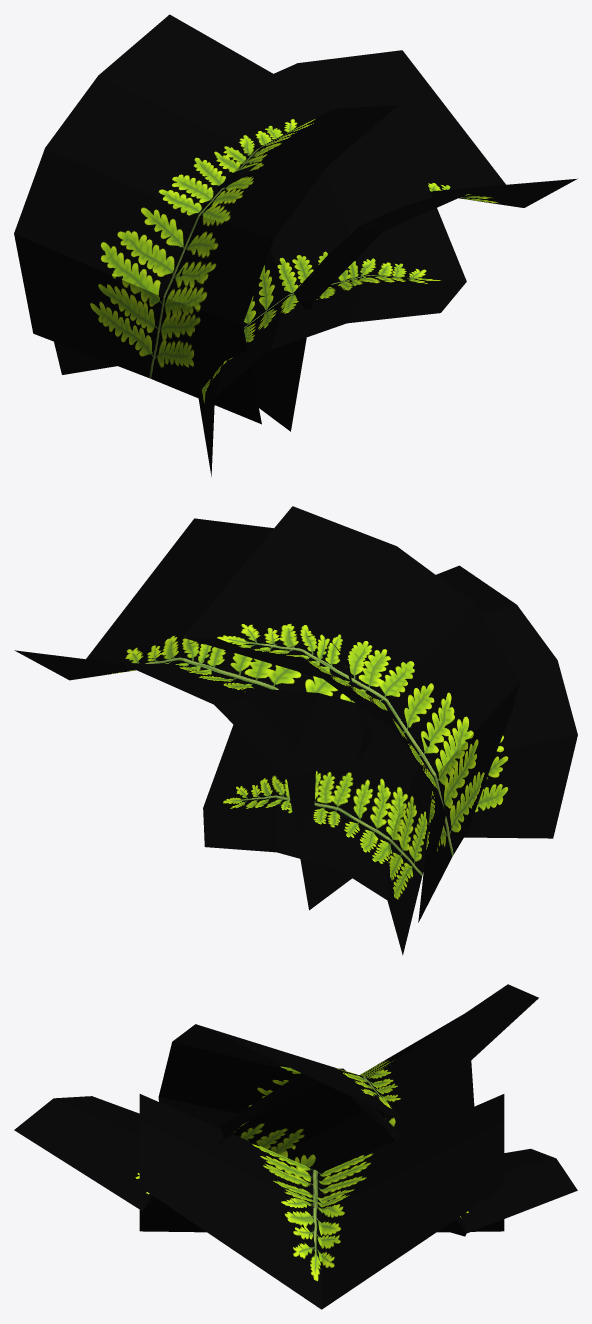
File: SM_Fern3.fbx
The picture shows the model from 3 angles, top to bottom: view 1: azimuth 30°, elevation 25°; view 2: azimuth 150°, elevation 25°; view 3: azimuth 270°, elevation 25°; orthographic projection. The views are drawn at different scales.
Visible parts, largest first — view 1: Plane.003; view 2: Plane.003; view 3: Plane.003.
Boxes of the visible parts, box(x1,y1,x2,y2) form: Plane.003: box(14, 14, 577, 476); Plane.003: box(14, 506, 577, 955); Plane.003: box(14, 984, 577, 1309).
Size of the model in its own units: 244 by 159 by 261.
1 material, 1 textured.
